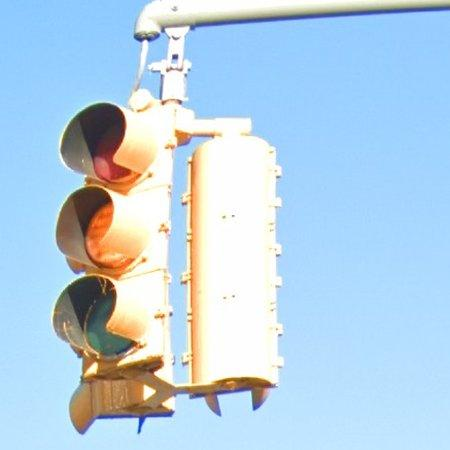traffic lights: (53, 98, 178, 383), (187, 134, 285, 409)
